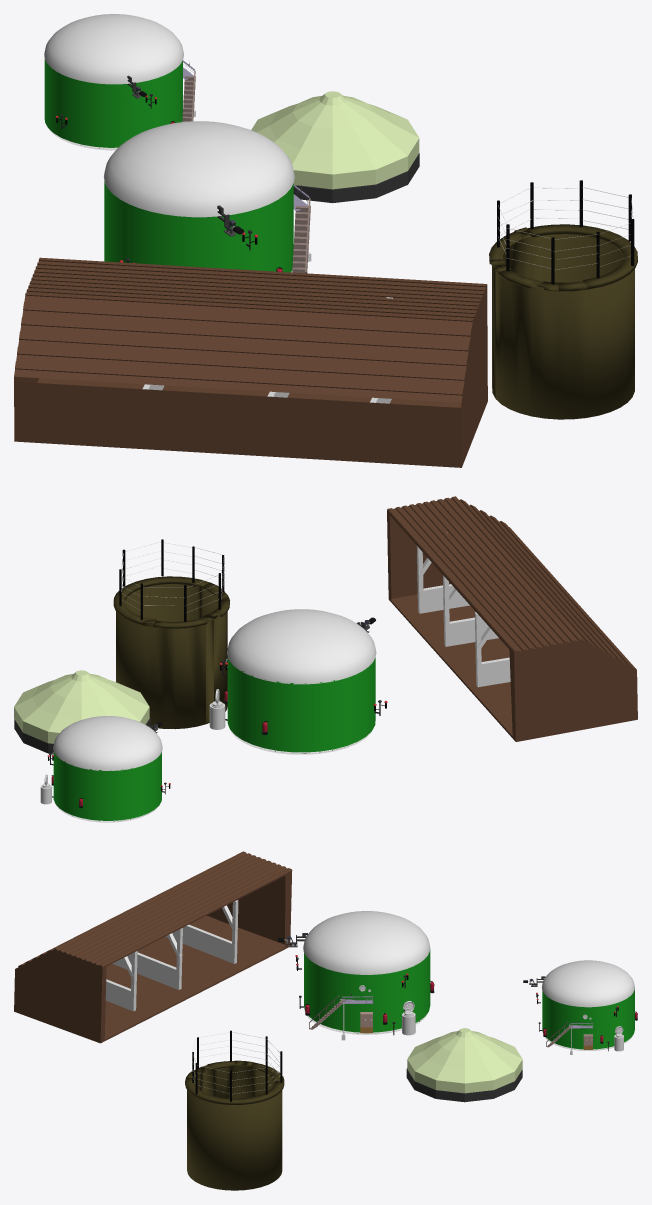
Rendered from biogasplantmodel.glb.
3 views of the same model, one above another, from view 1: azimuth 30°, elevation 25°; view 2: azimuth 150°, elevation 25°; view 3: azimuth 270°, elevation 25° (orthographic). The views are drawn at different scales.
Parts seen in each view (by area): view 1: Cube.050, Cylinder.074, Sphere, Cylinder.073, Cylinder, Cylinder.036, Sphere.015, Cylinder.072, Cube; view 2: Cube.050, Cylinder.074, Cylinder, Sphere, Cylinder.073, Cylinder.036, Sphere.015, Cube.052, Cube.053, Cube.051, Cylinder.072; view 3: Cube.050, Cylinder.074, Cylinder, Sphere, Cylinder.073, Cylinder.036, Sphere.015, Cube.053, Cube.052, Cylinder.072, Cube.051.
Boxes of the visible parts, x1=… form: Cube.050: x1=14, y1=257, x2=487, y2=467; Cylinder.074: x1=489, y1=224, x2=637, y2=419; Sphere: x1=104, y1=121, x2=294, y2=217; Cylinder.073: x1=251, y1=91, x2=419, y2=189; Cylinder: x1=104, y1=181, x2=293, y2=272; Cylinder.036: x1=44, y1=59, x2=182, y2=147; Sphere.015: x1=44, y1=14, x2=183, y2=84; Cylinder.072: x1=293, y1=153, x2=419, y2=203; Cube: x1=292, y1=198, x2=310, y2=273; Cube.050: x1=387, y1=496, x2=637, y2=741; Cylinder.074: x1=113, y1=576, x2=229, y2=729; Cylinder: x1=227, y1=658, x2=375, y2=752; Sphere: x1=227, y1=609, x2=376, y2=684; Cylinder.073: x1=14, y1=670, x2=149, y2=743; Cylinder.036: x1=53, y1=751, x2=161, y2=820; Sphere.015: x1=53, y1=716, x2=162, y2=770; Cube.052: x1=443, y1=575, x2=498, y2=646; Cube.053: x1=474, y1=612, x2=510, y2=687; Cube.051: x1=416, y1=546, x2=469, y2=613; Cylinder.072: x1=14, y1=717, x2=150, y2=753; Cube.050: x1=14, y1=851, x2=292, y2=1043; Cylinder.074: x1=185, y1=1060, x2=284, y2=1190; Cylinder: x1=304, y1=949, x2=430, y2=1032; Sphere: x1=303, y1=911, x2=430, y2=974; Cylinder.073: x1=407, y1=1028, x2=522, y2=1093; Cylinder.036: x1=542, y1=988, x2=634, y2=1049; Sphere.015: x1=541, y1=960, x2=634, y2=1007; Cube.053: x1=165, y1=900, x2=238, y2=963; Cube.052: x1=112, y1=928, x2=182, y2=989; Cylinder.072: x1=406, y1=1068, x2=522, y2=1102; Cube.051: x1=105, y1=951, x2=137, y2=1011.
Size of the model in its own units: 148 by 53.89 by 188.
42 materials, 2 textured.
